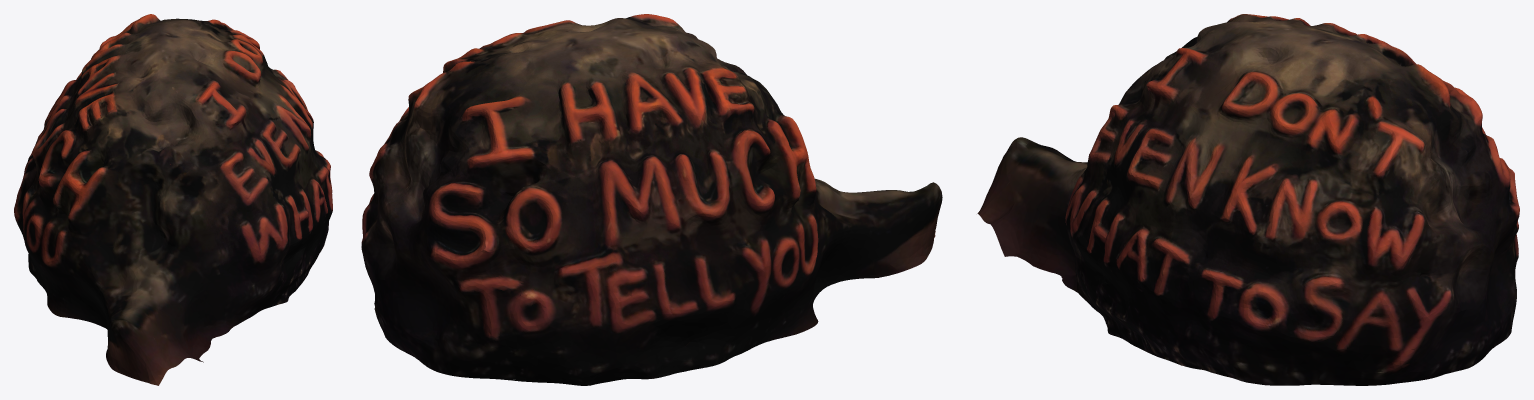
File: somuch.glb
3 renders of one model, left to right at view 1: azimuth 30°, elevation 25°; view 2: azimuth 150°, elevation 25°; view 3: azimuth 270°, elevation 25°, orthographic. The views are drawn at different scales.
Bounding box in the file's own units: 0.917 × 0.6043 × 1.1.
1 material, 1 textured.
